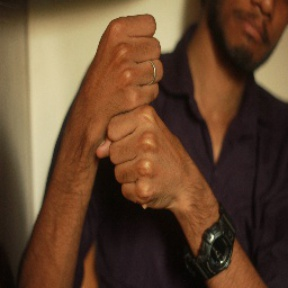G: (80, 6, 188, 210)
